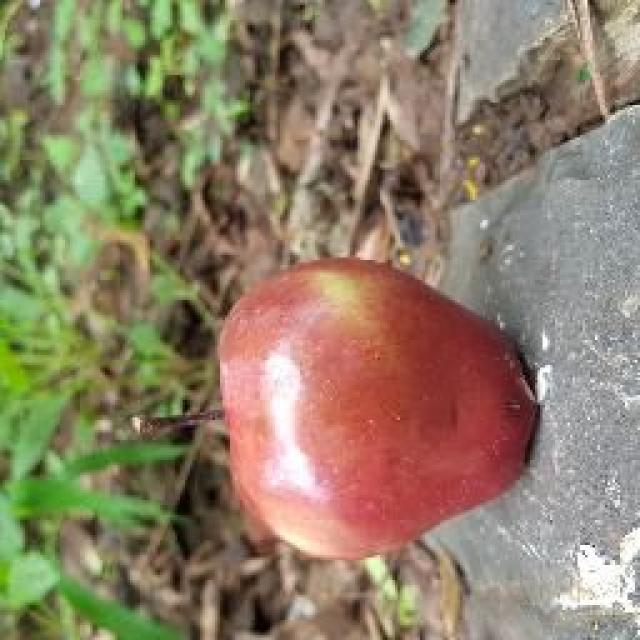Good_Apple: (215, 258, 540, 565)
